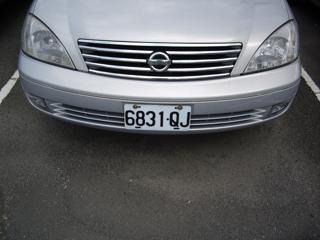plate: (122, 102, 192, 134)
